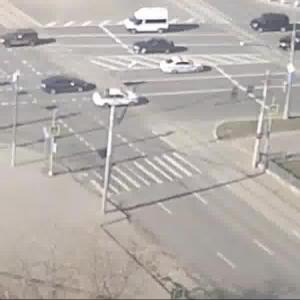car: (119, 4, 174, 36), (42, 74, 87, 98), (94, 90, 145, 111), (250, 10, 291, 33), (2, 26, 40, 50), (159, 57, 198, 77), (133, 41, 178, 58), (277, 38, 300, 49)
